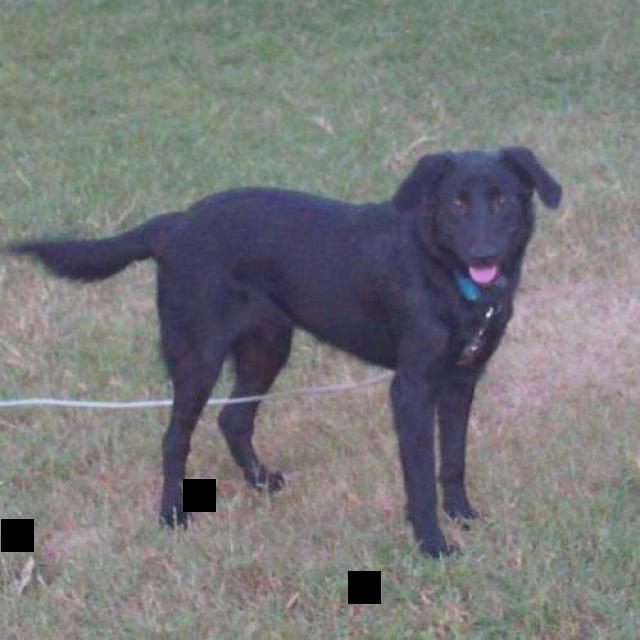adult_dog: (0, 140, 565, 563)
